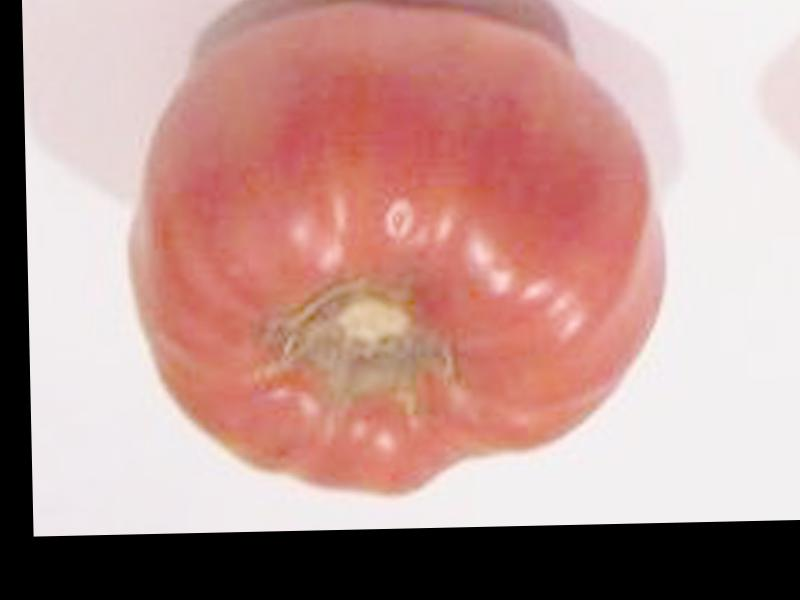Tomato: (126, 4, 664, 498)
